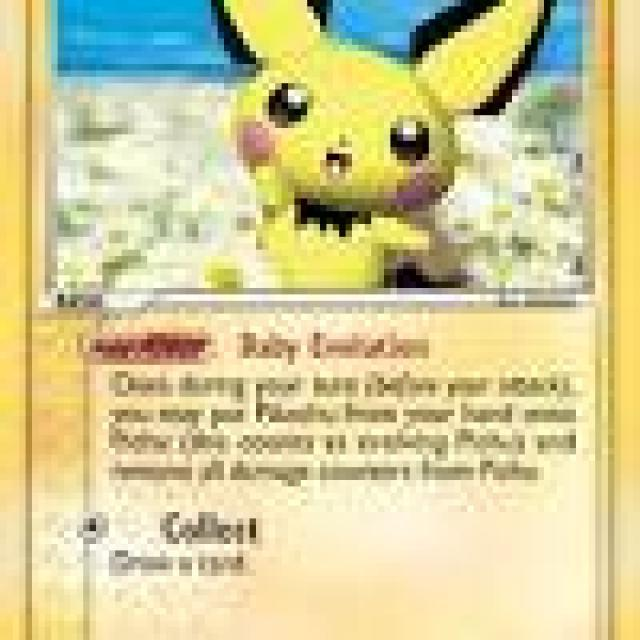pichu: (214, 5, 550, 284)
